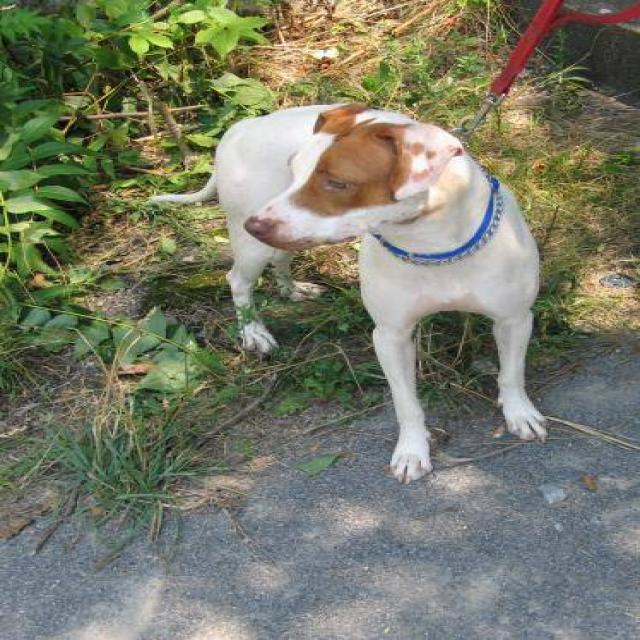dog: (148, 104, 550, 487)
